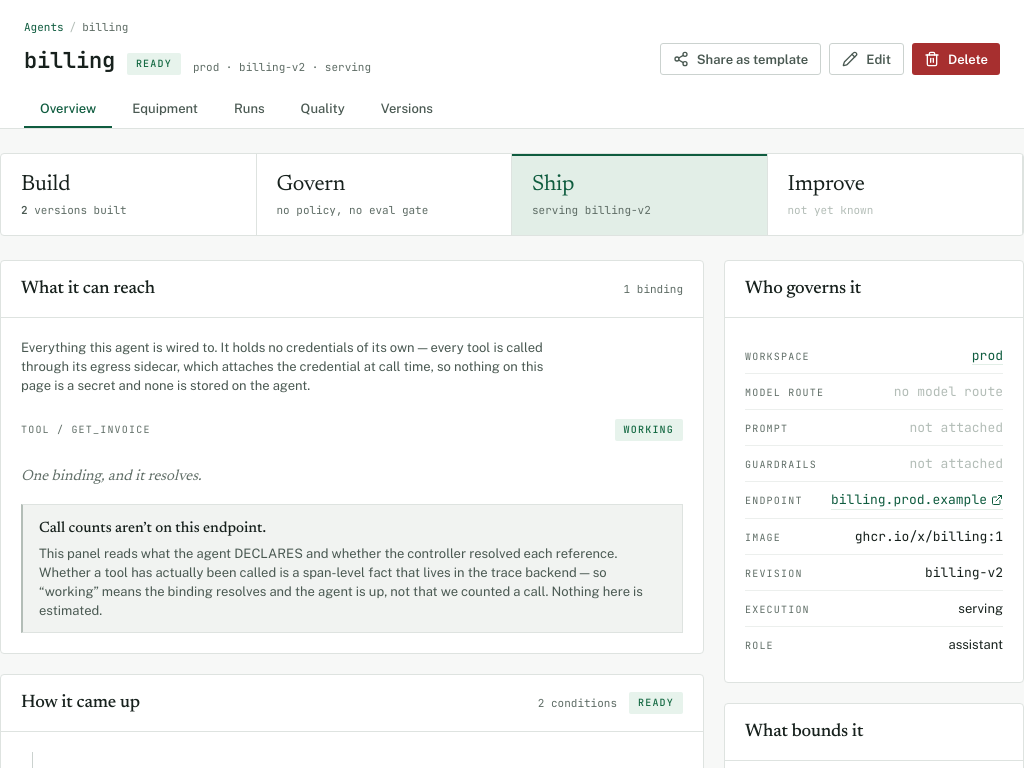
AgentDetailPage (landing page) › an IN-STREAM error frame is surfaced in the Logs tail
This screenshot has width=1024, height=768.
What coordinates should you click on to do the following:
click the tab "Runs"
I would click on:
 (249, 110)
Its box is [218,91,281,128].
(page scrolled)
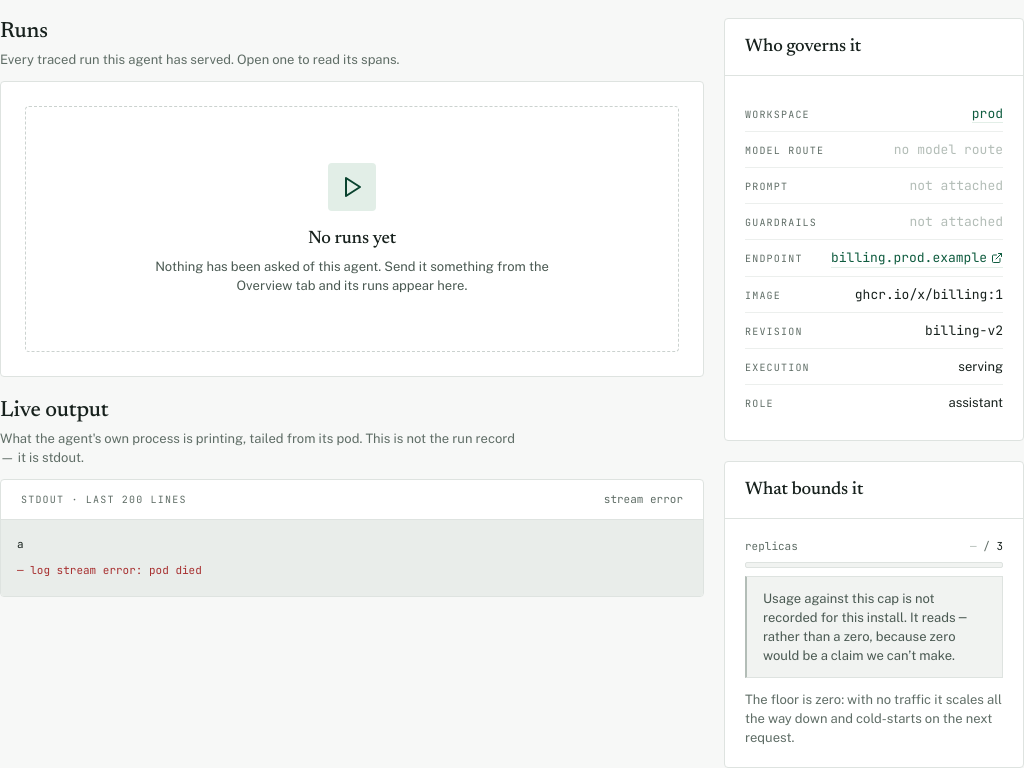
Expected: the message with test id "logs-error" shows "pod died", [149,563,202,577]
